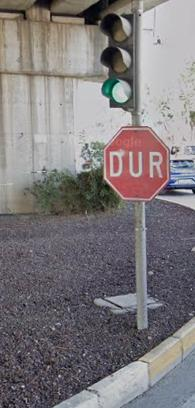greenlight: (101, 13, 142, 112)
stop: (99, 126, 169, 201)
